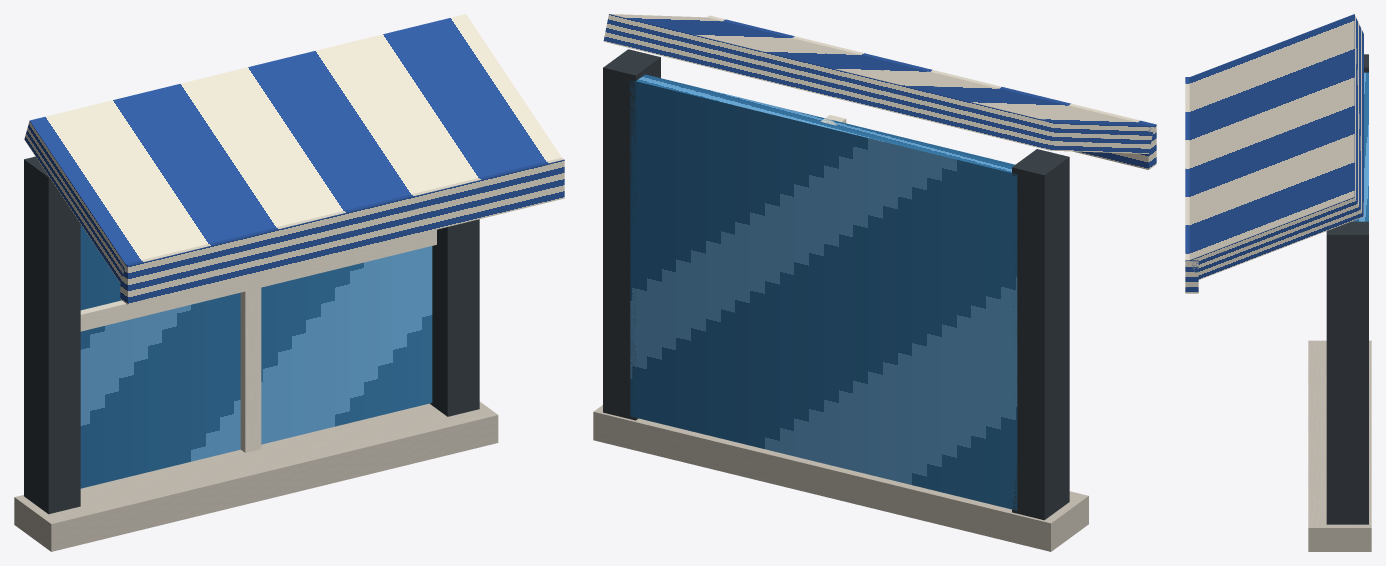
File: window-awning-lod0.glb
3 views of the same model, side by side, from view 1: azimuth 30°, elevation 25°; view 2: azimuth 150°, elevation 25°; view 3: azimuth 270°, elevation 25° (orthographic). The views are drawn at different scales.
Parts seen in each view (by area): view 1: window-awning-lod0; view 2: window-awning-lod0; view 3: window-awning-lod0.
Boxes of the visible parts, bbox=[...] form: window-awning-lod0: bbox=[14, 14, 564, 551]; window-awning-lod0: bbox=[593, 14, 1156, 551]; window-awning-lod0: bbox=[1185, 14, 1371, 551].
Bounding box in the file's own units: 1.68 × 1.47 × 0.705.
1 material, 1 textured.
